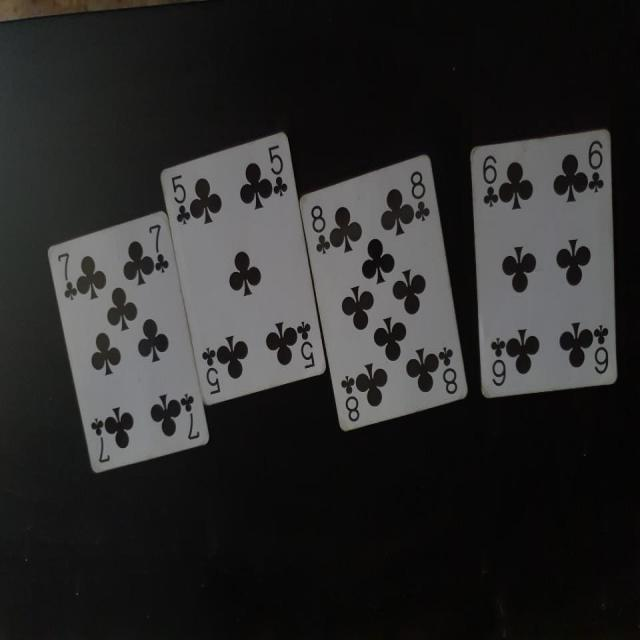5 of clubs: (157, 130, 329, 408)
6 of clubs: (470, 129, 620, 400)
7 of clubs: (44, 212, 210, 474)
8 of clubs: (300, 151, 470, 437)
